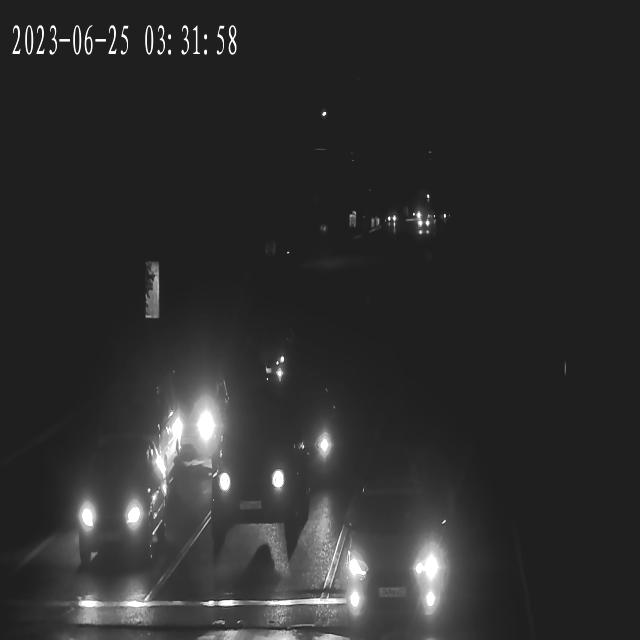Car: (338, 493, 452, 617), (59, 452, 158, 566), (210, 434, 302, 522), (277, 389, 348, 485), (154, 380, 230, 457), (384, 212, 399, 227), (417, 217, 432, 231)
